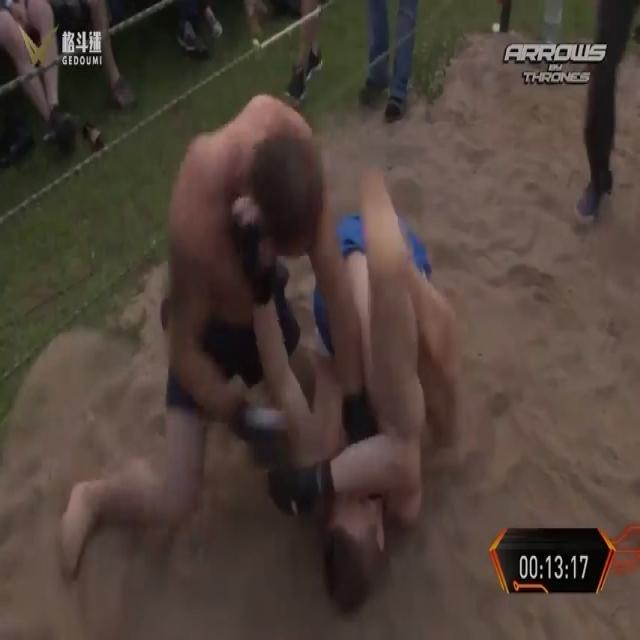fight: (55, 92, 465, 640)
